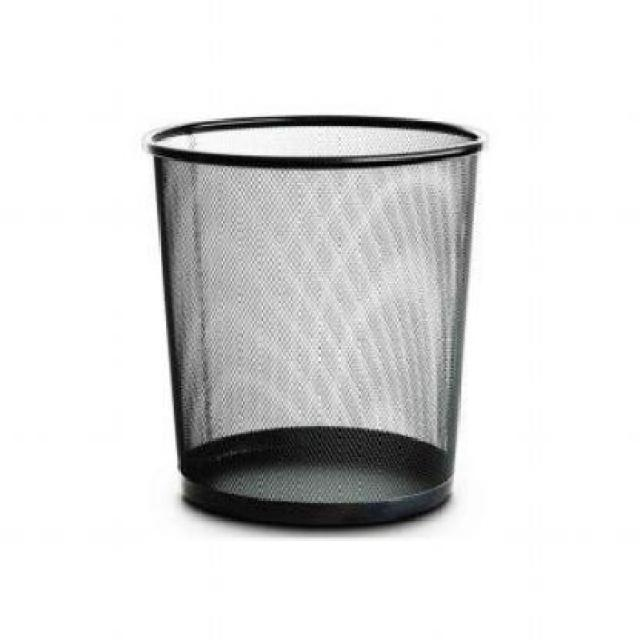dustbin: (136, 108, 492, 543)
